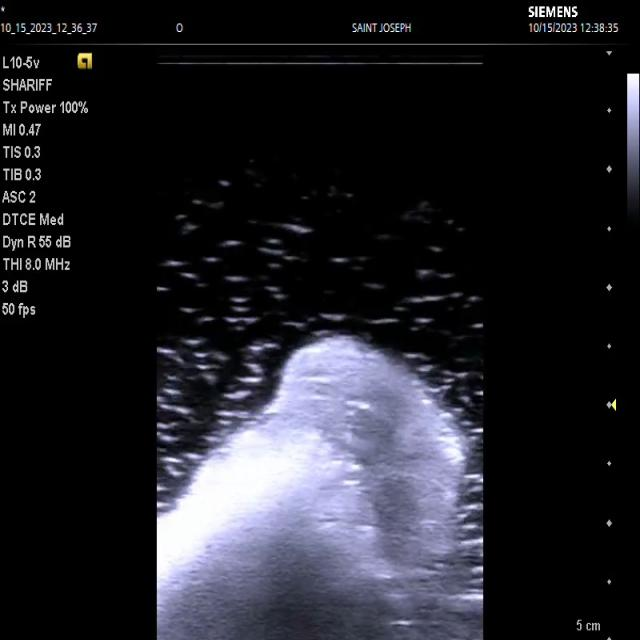tissue: (157, 326, 482, 640)
